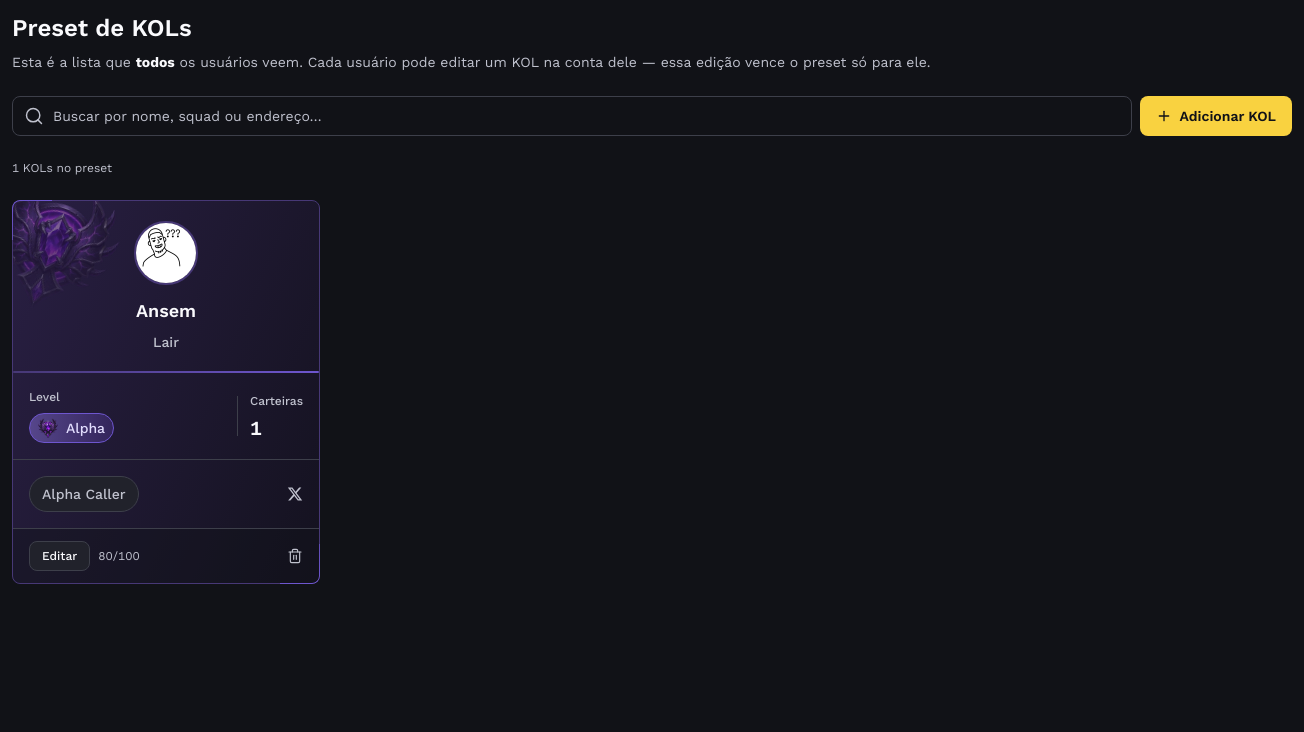
Test: KolsAdmin — remover e restaurar › remove do preset após confirmação e restaura depois
Step 1. Click the button named "Remover Ansem do preset" → x=295, y=556, box [287, 548, 303, 564]
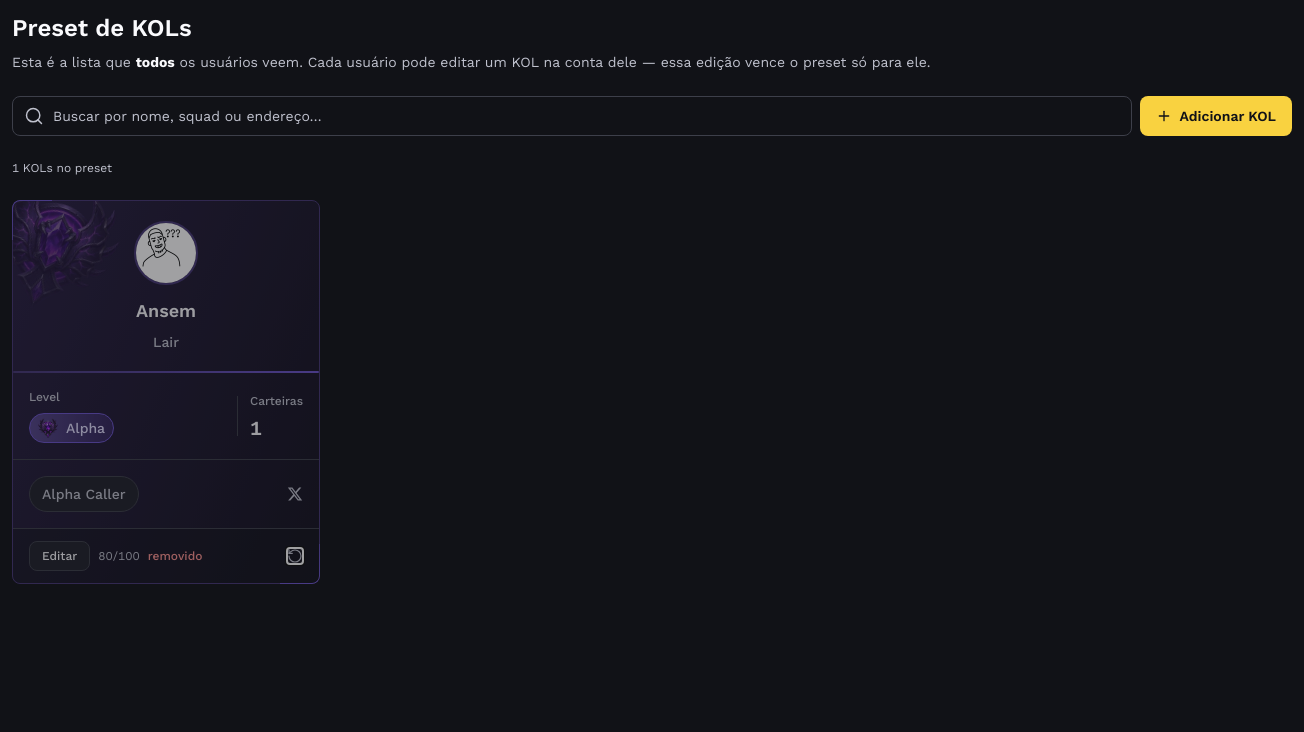
expect the text "removido" is shown: met, box [148, 548, 202, 564]
Step 2. Click the button named "Restaurar Ansem" → x=295, y=556, box [287, 548, 303, 564]
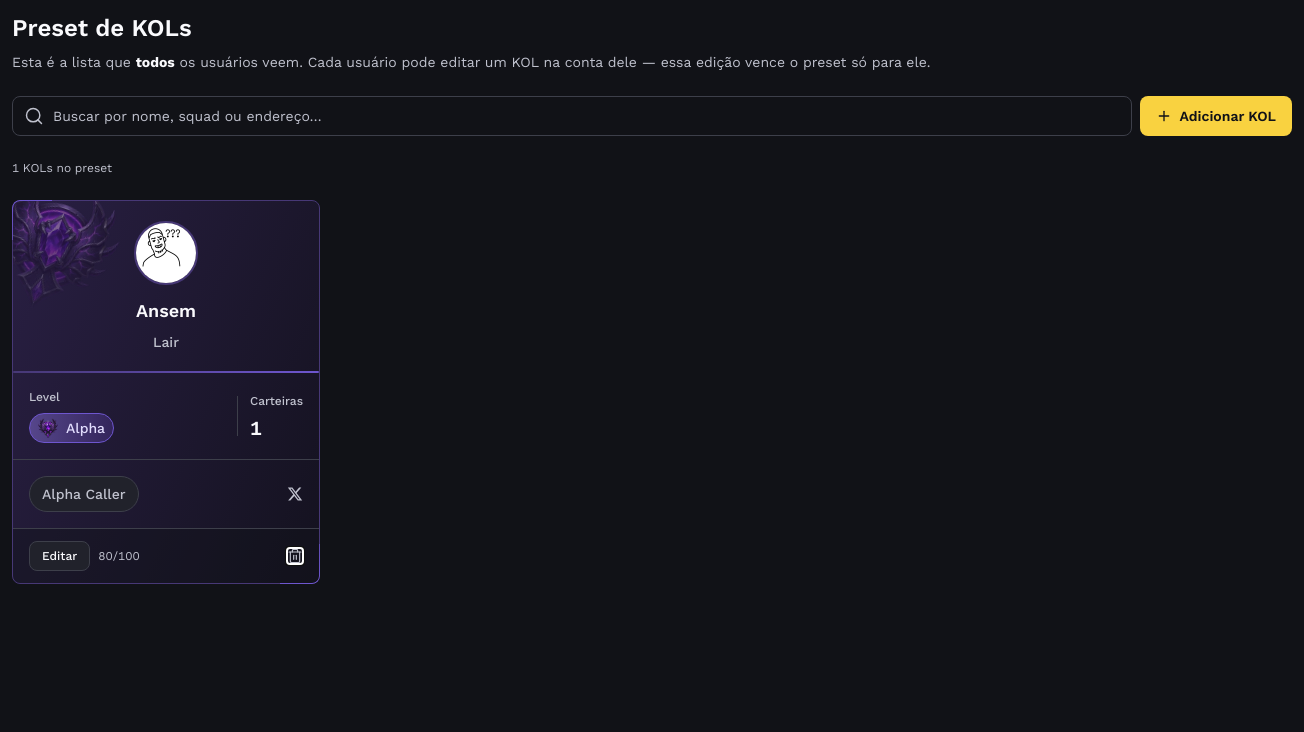
expect the text "removido" is gone: met
